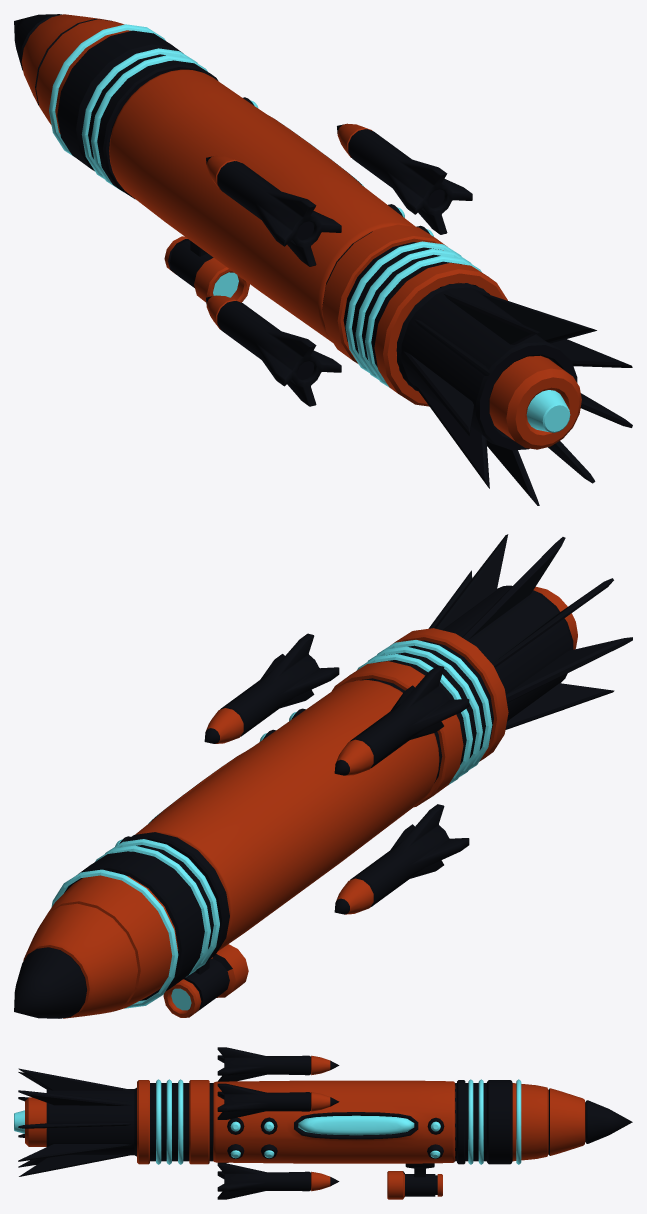
The model's file is RPGC01.fbx.
3 renders of one model, top to bottom at view 1: azimuth 30°, elevation 25°; view 2: azimuth 150°, elevation 25°; view 3: azimuth 270°, elevation 25°, orthographic. The views are drawn at different scales.
Visible parts, largest first — view 1: Rocket03, Cylinder066, Cylinder078, Cylinder071, Cylinder067, Cylinder069, Cylinder072, Cylinder068; view 2: Rocket03, Cylinder066, Cylinder078, Cylinder067, Cylinder069, Cylinder072, Cylinder068; view 3: Rocket03, Cylinder066, Cylinder078, Cylinder069, Cylinder067, Cylinder072, Cylinder071, Cylinder068, Cylinder076, Cylinder073.
Part boxes in pixels (x1,y1,x2,y2): Rocket03: (109,69,632,505); Cylinder066: (14,14,507,406); Cylinder078: (206,123,472,406); Cylinder071: (489,355,581,449); Cylinder067: (345,241,481,388); Cylinder069: (164,236,249,302); Cylinder072: (81,48,207,191); Cylinder068: (49,24,165,156); Rocket03: (135,534,632,950); Cylinder066: (14,628,508,1018); Cylinder078: (204,633,469,914); Cylinder067: (356,640,492,784); Cylinder069: (163,944,248,1017); Cylinder072: (95,839,219,976); Cylinder068: (51,869,178,1008); Rocket03: (14,1068,455,1176); Cylinder066: (137,1080,632,1164); Cylinder078: (217,1047,339,1199); Cylinder069: (387,1163,442,1199); Cylinder067: (156,1079,183,1164); Cylinder072: (468,1079,483,1164); Cylinder071: (25,1097,46,1146); Cylinder068: (516,1079,521,1164); Cylinder076: (227,1117,244,1134); Cylinder073: (260,1117,277,1134).
Bounding box in the file's own units: 57.62 × 67.5 × 287.
